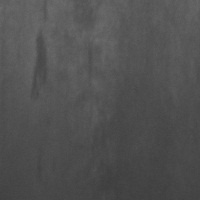inclusion: (21, 23, 55, 106), (76, 31, 101, 96), (31, 150, 49, 182)
